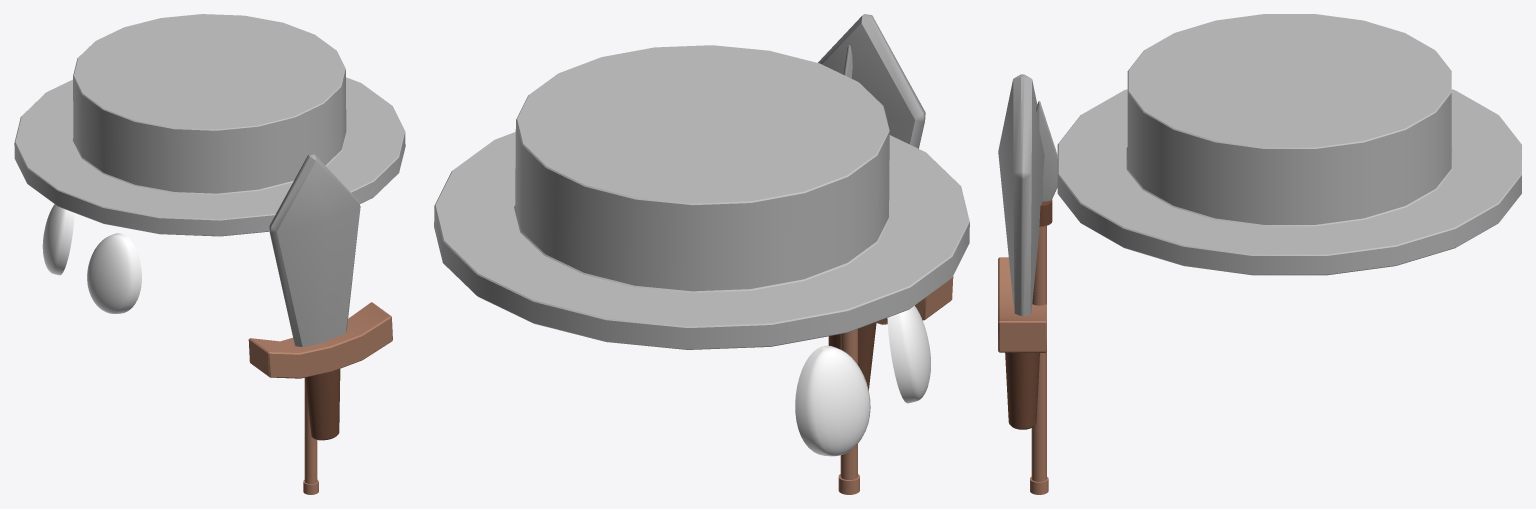
File: VillagerRigids.fbx
The picture shows the model from 3 angles, left to right: view 1: azimuth 30°, elevation 25°; view 2: azimuth 150°, elevation 25°; view 3: azimuth 270°, elevation 25°; orthographic projection. The views are drawn at different scales.
Parts seen in each view (by area): view 1: VillagerHat, Blade, polySurface5, polySurface4, Spear; view 2: VillagerHat, Blade, polySurface4, polySurface5, Spear; view 3: VillagerHat, Blade, Spear.
Part boxes in pixels (x1,y1,x2,y2): VillagerHat: (14, 14, 405, 236); Blade: (248, 154, 392, 440); polySurface5: (87, 233, 141, 313); polySurface4: (42, 204, 74, 275); Spear: (303, 378, 318, 494); VillagerHat: (434, 45, 969, 349); Blade: (818, 14, 953, 390); polySurface4: (795, 345, 870, 456); polySurface5: (887, 305, 930, 403); Spear: (838, 45, 859, 494); VillagerHat: (1057, 14, 1521, 275); Blade: (998, 74, 1046, 429); Spear: (1030, 101, 1058, 494).
Bounding box in the file's own units: 9.47 × 9.3 × 10.68.
